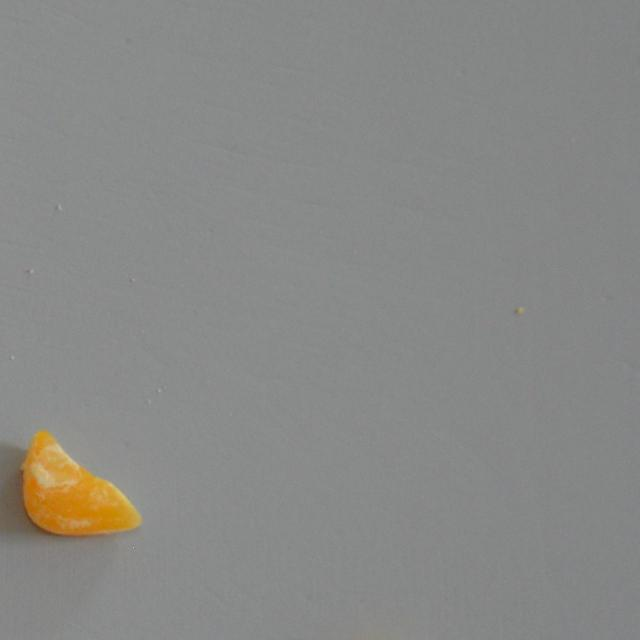dañado: (18, 422, 154, 547)
